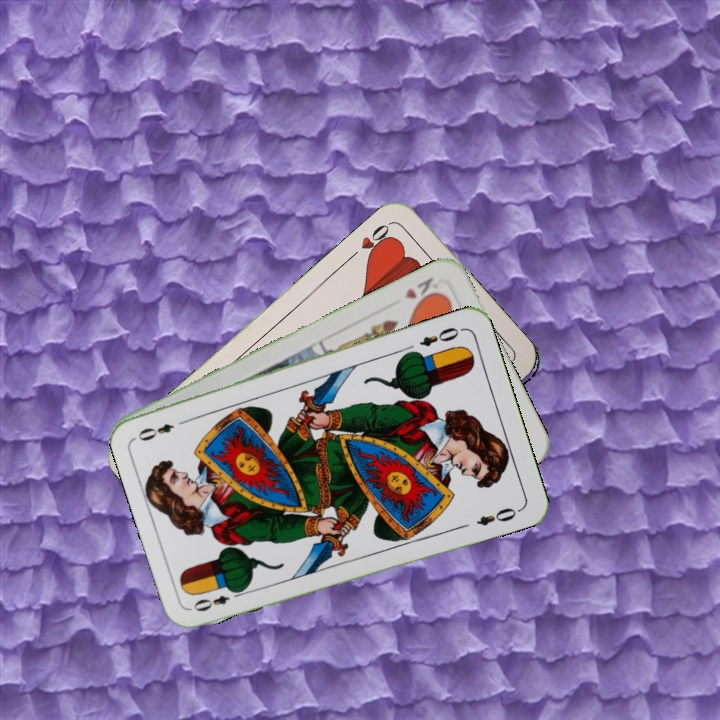EO: (189, 585, 246, 614), (415, 323, 462, 349)
HK: (400, 273, 444, 308)
HO: (345, 218, 396, 263)
